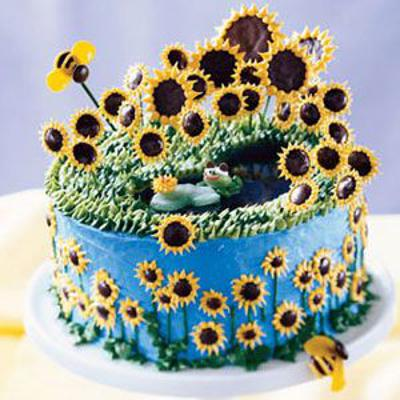cake: (33, 95, 373, 372)
